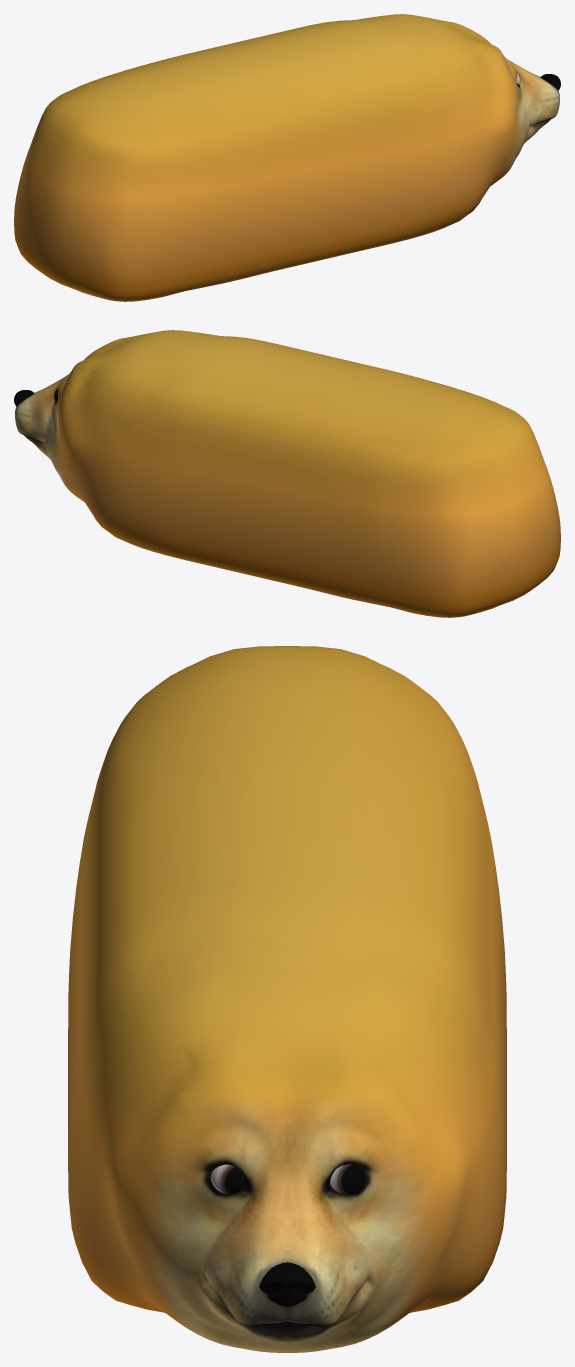
The model's file is furthermore.optimized.glb.
The picture shows the model from 3 angles, top to bottom: view 1: azimuth 30°, elevation 25°; view 2: azimuth 150°, elevation 25°; view 3: azimuth 270°, elevation 25°; orthographic projection. The views are drawn at different scales.
Visible parts, largest first — view 1: Plane.007_3; view 2: Plane.007_3; view 3: Plane.007_3, nose.003_0, Sphere.009_1.
Boxes of the visible parts, x1,y1,x2,y2 form: Plane.007_3: (14, 14, 559, 301); Plane.007_3: (15, 330, 560, 617); Plane.007_3: (68, 646, 506, 1352); nose.003_0: (259, 1262, 315, 1306); Sphere.009_1: (330, 1164, 365, 1194).
Bounding box in the file's own units: 10.96 × 3.51 × 3.97.
3 materials, 2 textured.
